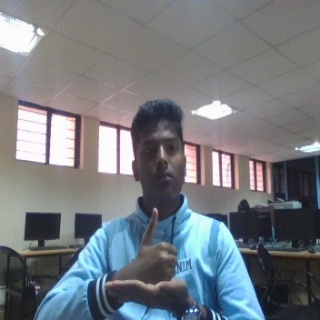Face: (127, 98, 189, 206)
Help: (104, 206, 190, 313)
